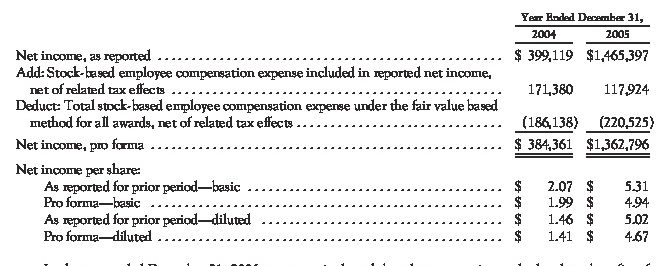table: (0, 0, 667, 266)
